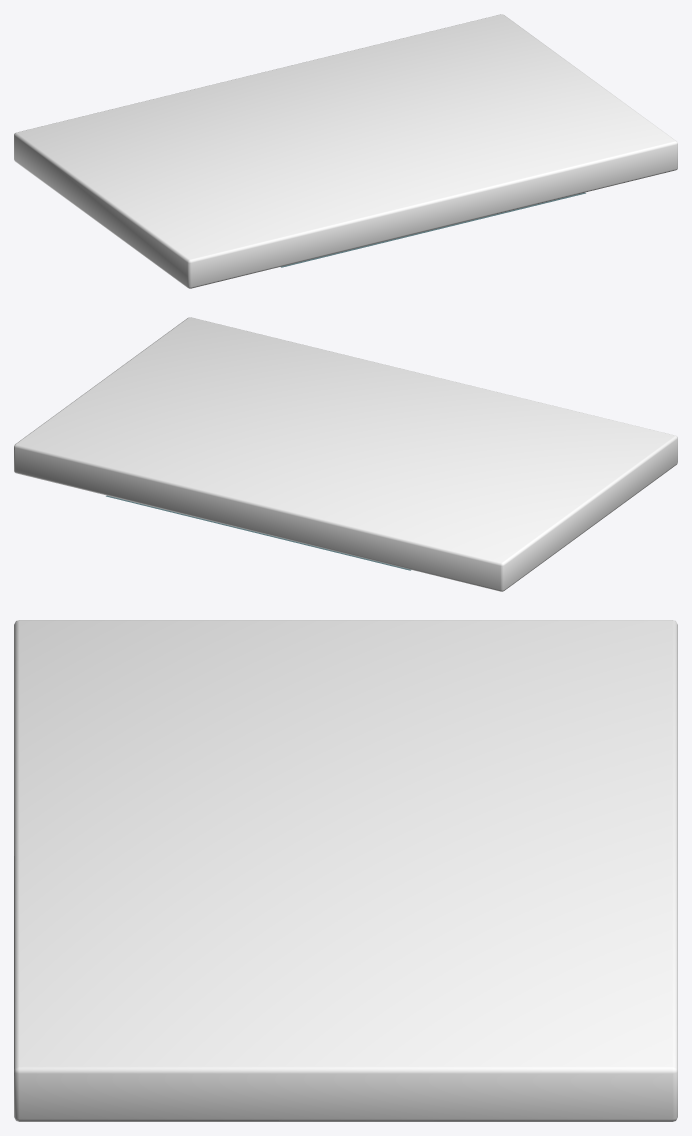
Rendered from obj0621_ground_chopping.fbx.
The picture shows the model from 3 angles, top to bottom: view 1: azimuth 30°, elevation 25°; view 2: azimuth 150°, elevation 25°; view 3: azimuth 270°, elevation 25°; orthographic projection. The views are drawn at different scales.
Parts seen in each view (by area): view 1: chopping, Plane.002; view 2: chopping, Plane.002; view 3: chopping.
Boxes of the visible parts, left/top/right/bottom form: chopping: left=14, top=14, right=677, bottom=288; Plane.002: left=281, top=192, right=585, bottom=267; chopping: left=14, top=317, right=677, bottom=591; Plane.002: left=106, top=495, right=410, bottom=570; chopping: left=14, top=620, right=677, bottom=1121.
Size of what is drawn, in the model's own units: 3.21 by 0.1834 by 2.
